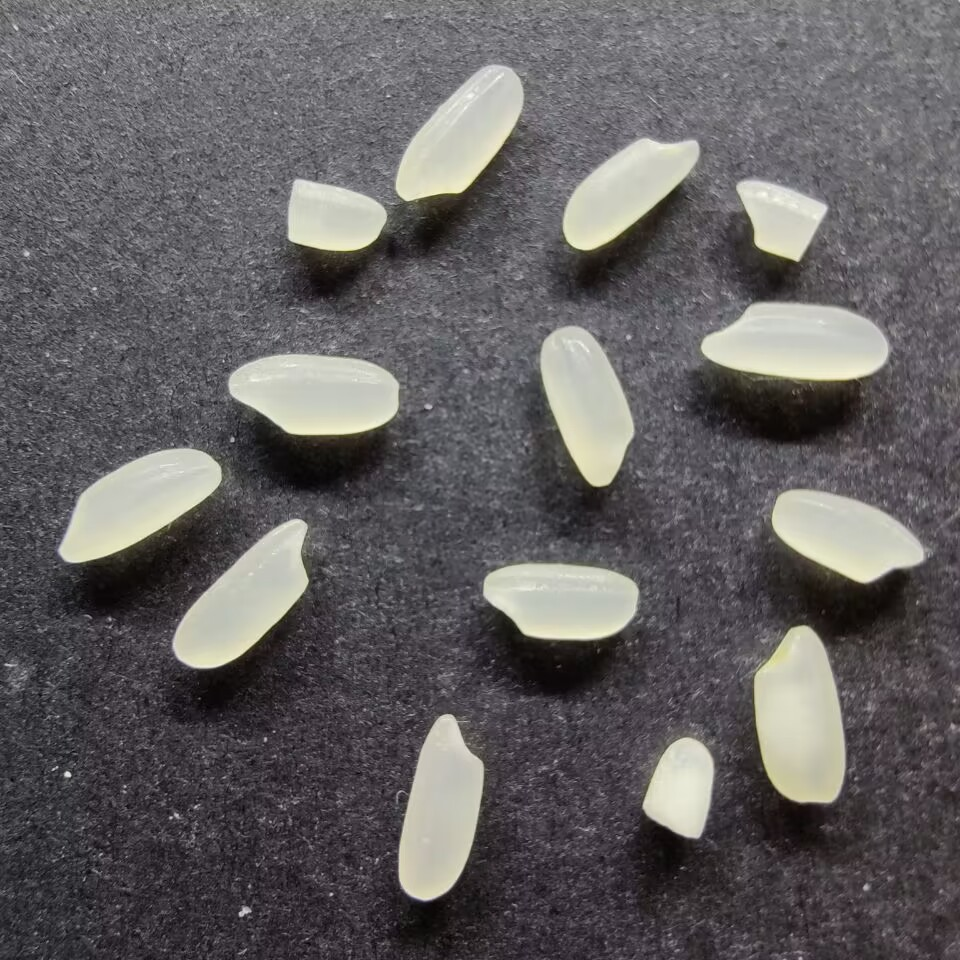broken: (731, 177, 832, 261), (638, 735, 715, 841), (284, 176, 389, 253)
rice: (169, 515, 311, 673), (56, 446, 223, 566), (393, 62, 525, 204), (394, 711, 488, 903), (750, 623, 847, 805), (560, 132, 701, 252), (537, 323, 637, 490), (698, 300, 889, 381), (771, 489, 927, 587), (225, 350, 399, 437), (479, 560, 640, 642)
